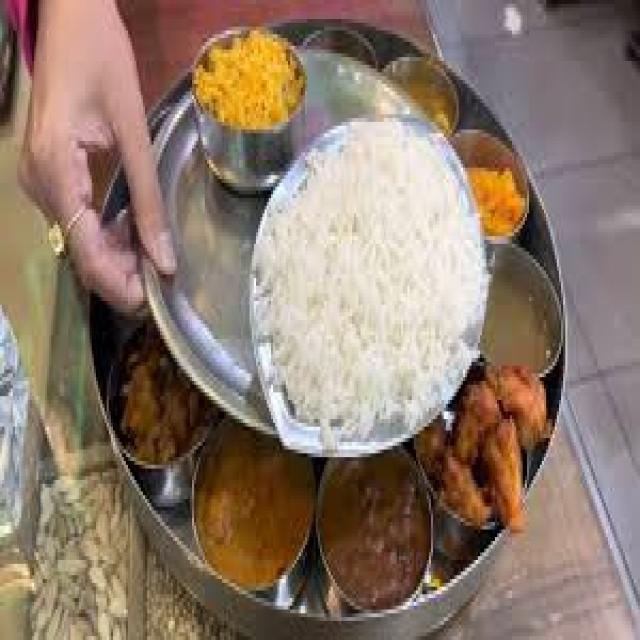dal: (198, 26, 299, 166)
rice: (260, 110, 482, 429)
roti: (426, 357, 554, 534)
sambar-rasam: (477, 243, 563, 384)
veg-fry: (300, 434, 443, 632), (104, 318, 206, 480)
